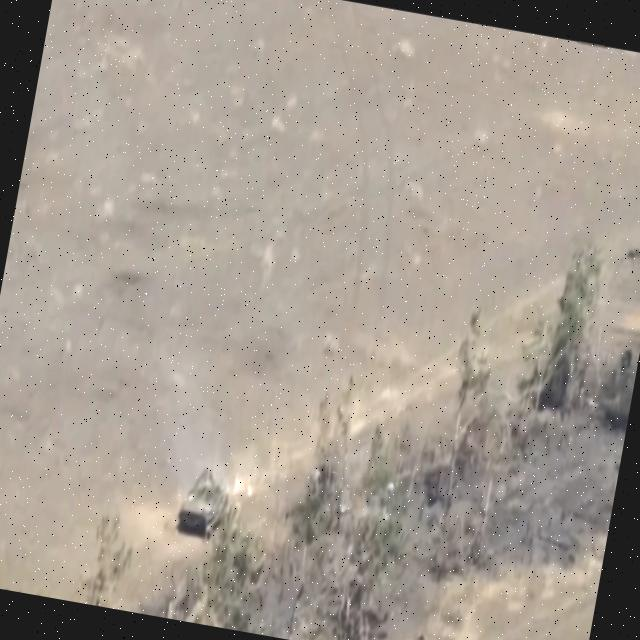AIFV: (172, 464, 236, 554)
